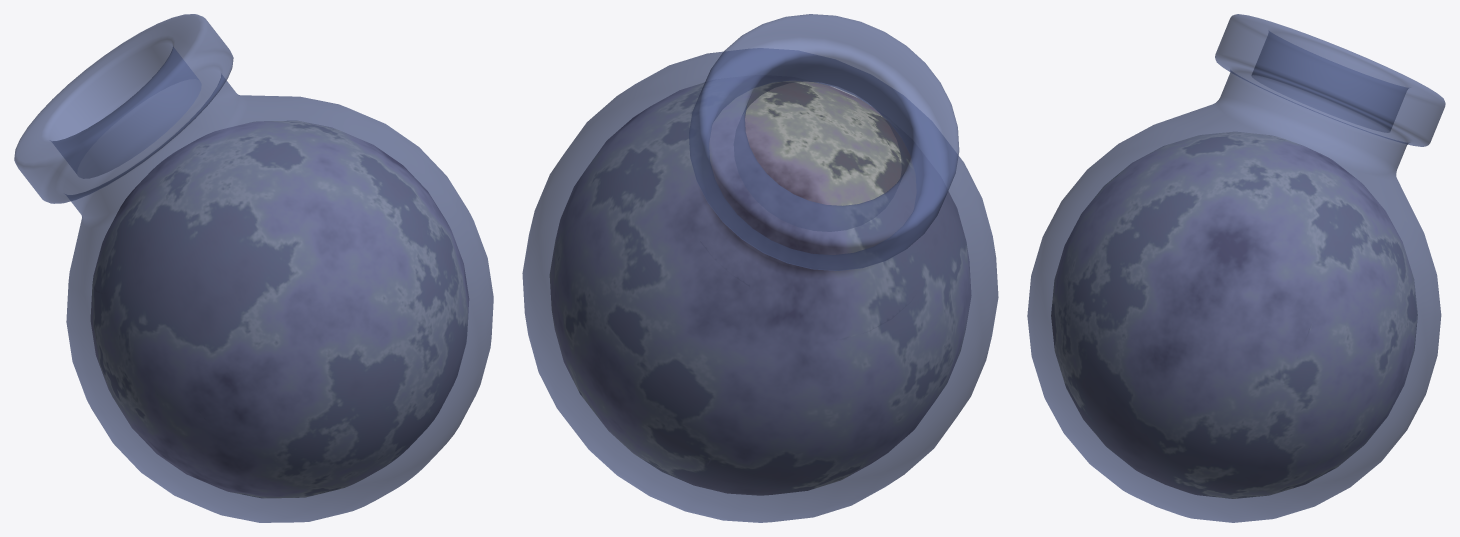
Rendered from bottle_with_flecks.fbx.
3 views of the same model, side by side, from view 1: azimuth 30°, elevation 25°; view 2: azimuth 150°, elevation 25°; view 3: azimuth 270°, elevation 25° (orthographic). The views are drawn at different scales.
Visible parts, largest first — view 1: bottle, nebula.001; view 2: bottle, nebula.001; view 3: bottle, nebula.001.
Part boxes in pixels (x1,y1,x2,y2): bottle: [14, 14, 493, 522]; nebula.001: [90, 120, 469, 498]; bottle: [522, 14, 998, 522]; nebula.001: [549, 80, 971, 495]; bottle: [1027, 14, 1445, 522]; nebula.001: [1051, 131, 1417, 498].
Size of the model in its own units: 2.54 by 2.9 by 2.43.
